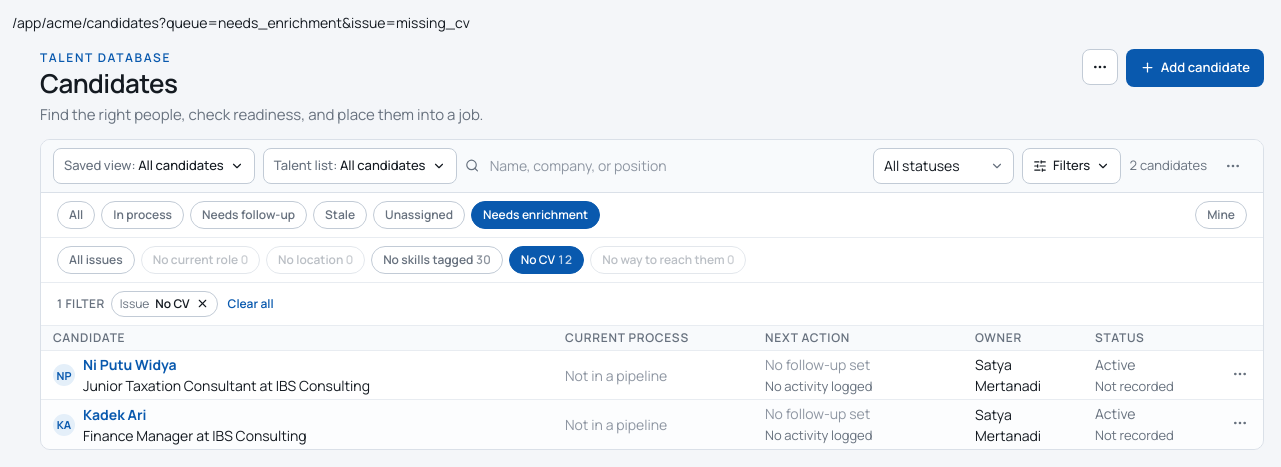
Scenario: CandidatesPage data quality › drops the issue when the queue is cleared
Click the radio button labelled "All": (76, 215) [57,201,95,229]
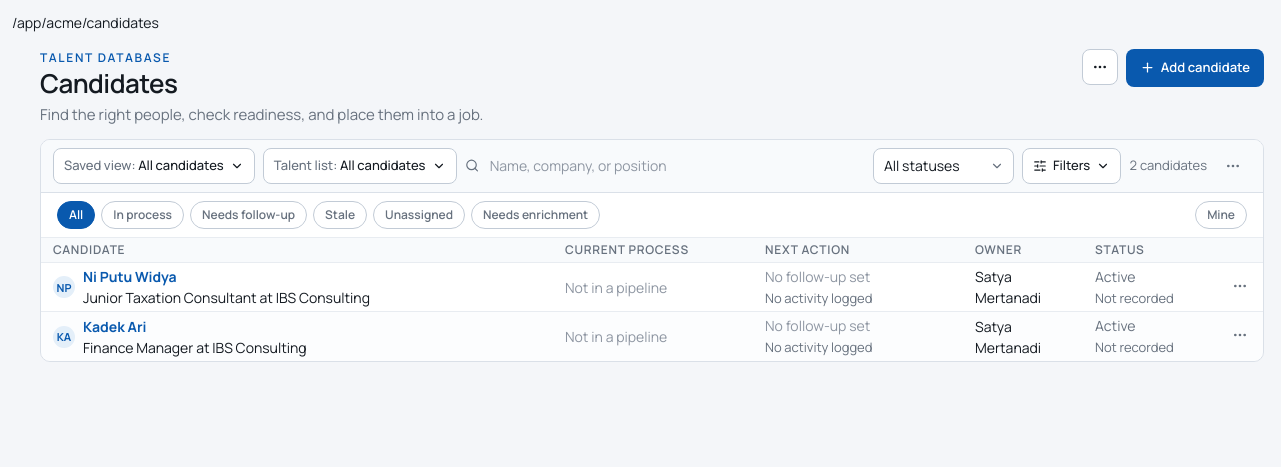
Result: the button "No CV" is gone
